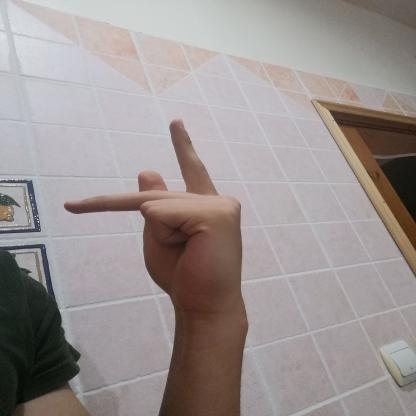DHAA: (50, 106, 258, 321)
